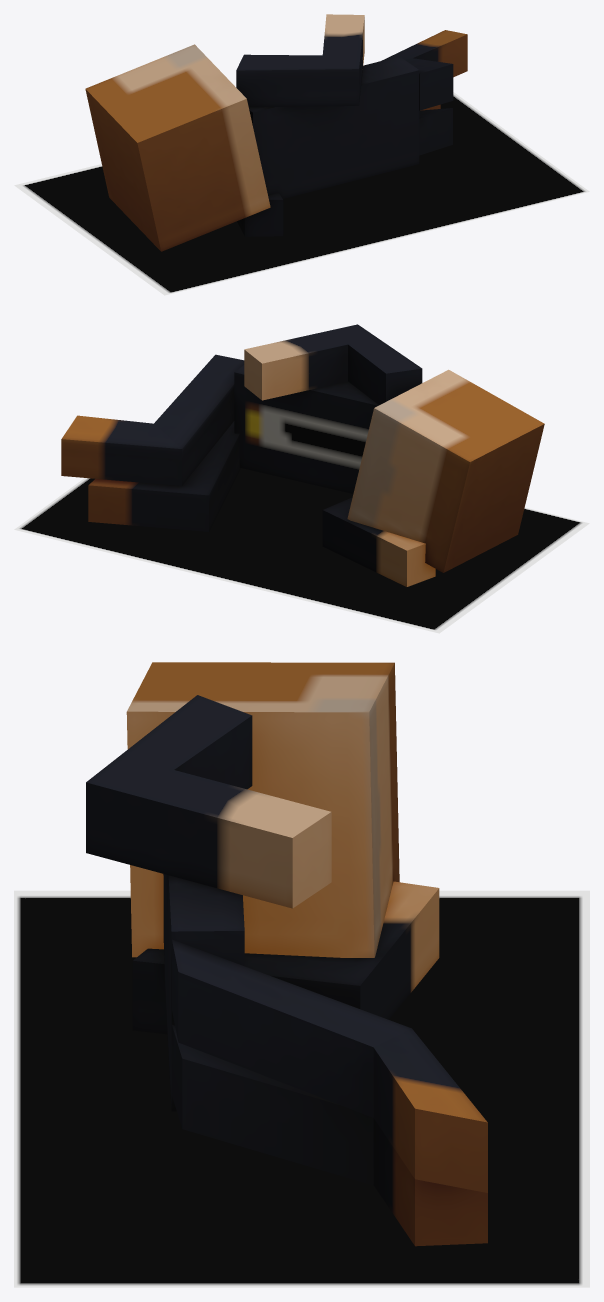
Rendered from 2x1_passed_out_guy.FBX.
3 views of the same model, one above another, from view 1: azimuth 30°, elevation 25°; view 2: azimuth 150°, elevation 25°; view 3: azimuth 270°, elevation 25° (orthographic). The views are drawn at different scales.
Parts seen in each view (by area): view 1: 2x1_passed_out_guy, 2x1_passed_out_guy_soft_shadow; view 2: 2x1_passed_out_guy, 2x1_passed_out_guy_soft_shadow; view 3: 2x1_passed_out_guy, 2x1_passed_out_guy_soft_shadow.
Boxes of the visible parts, x1,y1,x2,y2 form: 2x1_passed_out_guy: (85,14,467,251); 2x1_passed_out_guy_soft_shadow: (14,92,589,295); 2x1_passed_out_guy: (61,324,544,586); 2x1_passed_out_guy_soft_shadow: (14,468,589,633); 2x1_passed_out_guy: (86,662,487,1246); 2x1_passed_out_guy_soft_shadow: (14,890,589,1287).
Bounding box in the file's own units: 1463 × 530 × 897.
